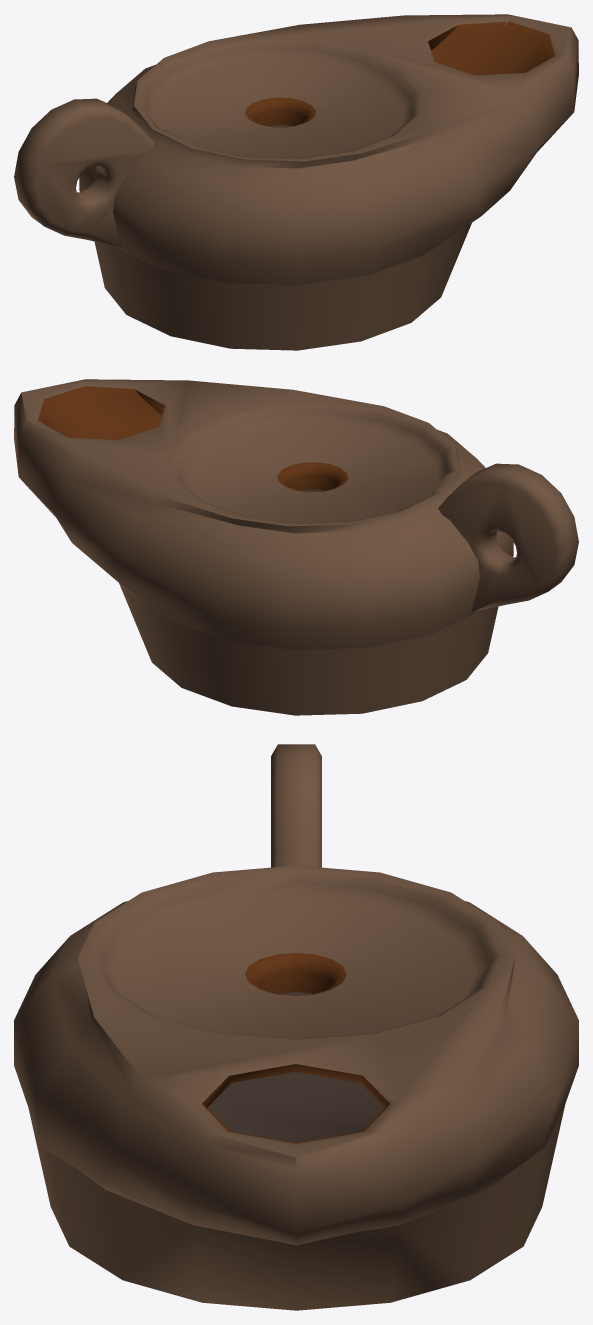
The model's file is comlek_yeni.fbx.
3 renders of one model, top to bottom at view 1: azimuth 30°, elevation 25°; view 2: azimuth 150°, elevation 25°; view 3: azimuth 270°, elevation 25°, orthographic. The views are drawn at different scales.
Parts seen in each view (by area): view 1: çömlek_sağlam; view 2: çömlek_sağlam; view 3: çömlek_sağlam.
Boxes of the visible parts, x1,y1,x2,y2 form: çömlek_sağlam: [14, 14, 578, 350]; çömlek_sağlam: [14, 379, 578, 715]; çömlek_sağlam: [14, 744, 578, 1310].
Size of the model in its own units: 0.7463 by 0.2833 by 0.457.
